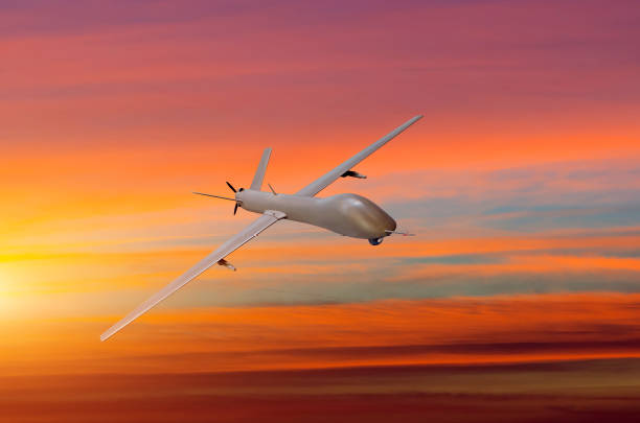military drone: (99, 114, 423, 341)
